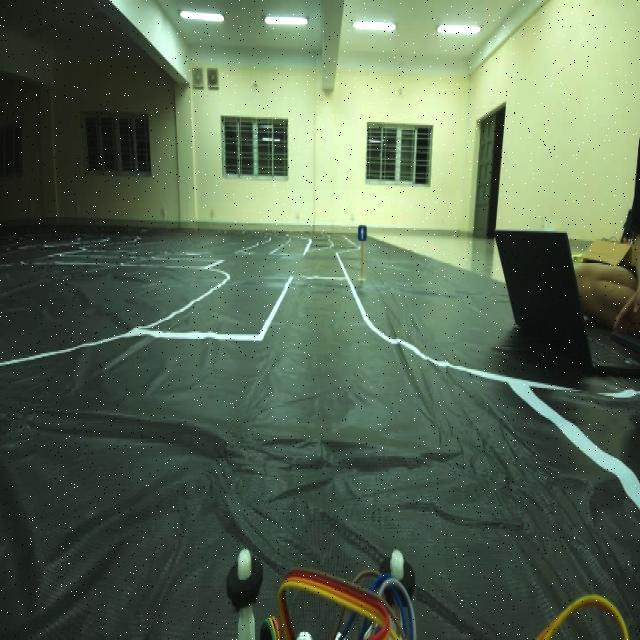onewayroad: (354, 215, 370, 246)
